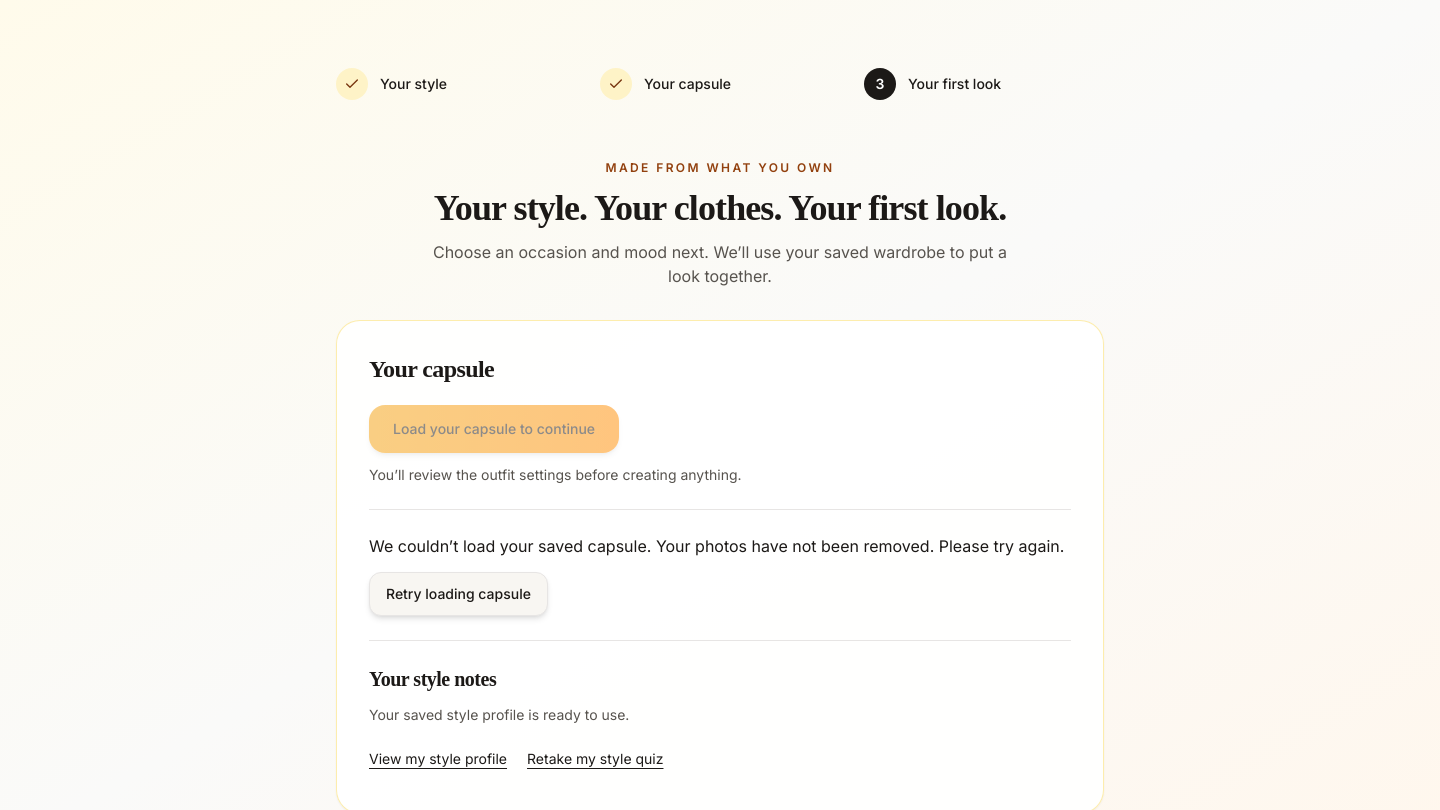
Scenario: keeps capsule load errors visible and recoverable without claiming zero or ready
Expected: the message shows "couldn’t load your saved capsule", [369,536,1064,556]
Expected: the link "Create my first outfit" is not shown
Click the button "Retry loading capsule": (458, 594) [369,572,548,616]
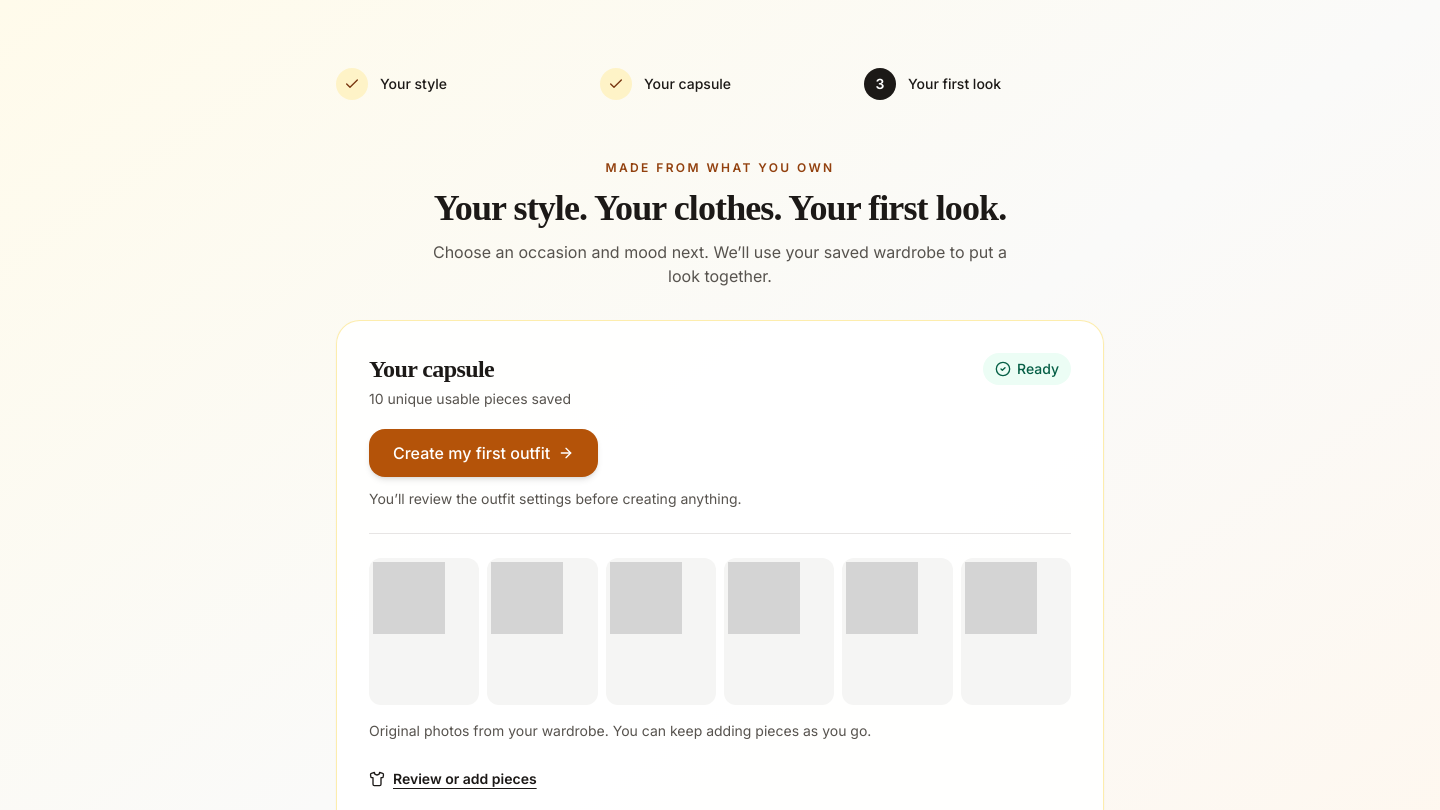
Expected: the link "Create my first outfit" is shown, [369,429,598,477]
